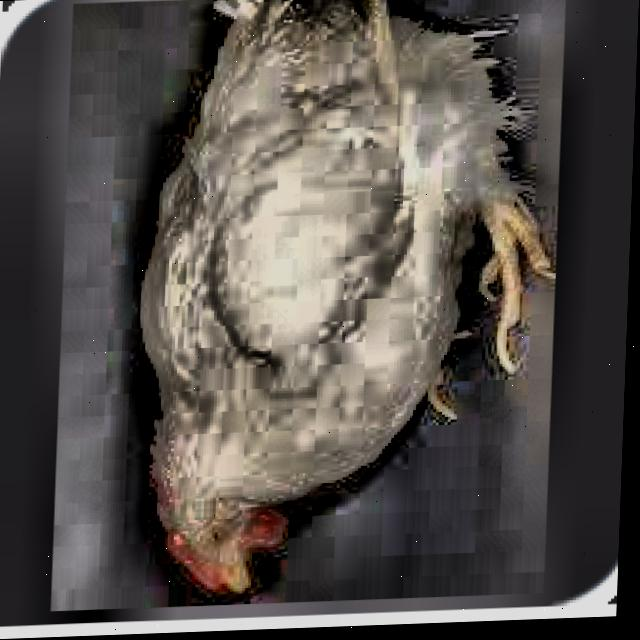Newcastle: (145, 424, 311, 603)
